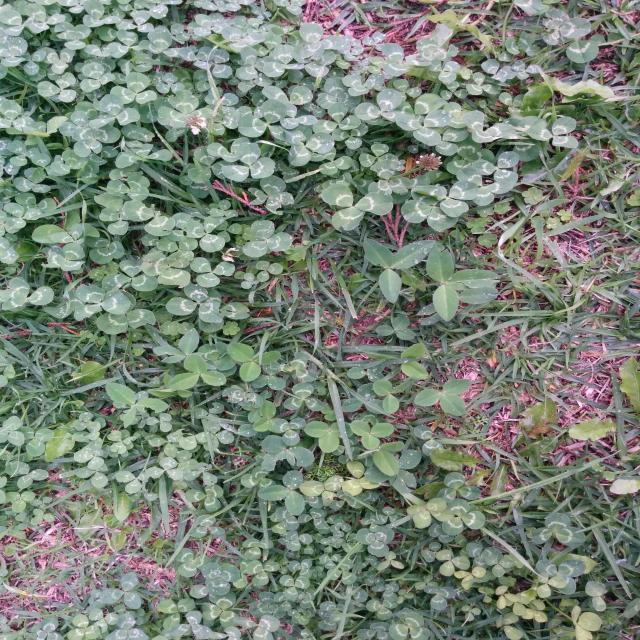Four Leaf Clover: (406, 498, 455, 529)
